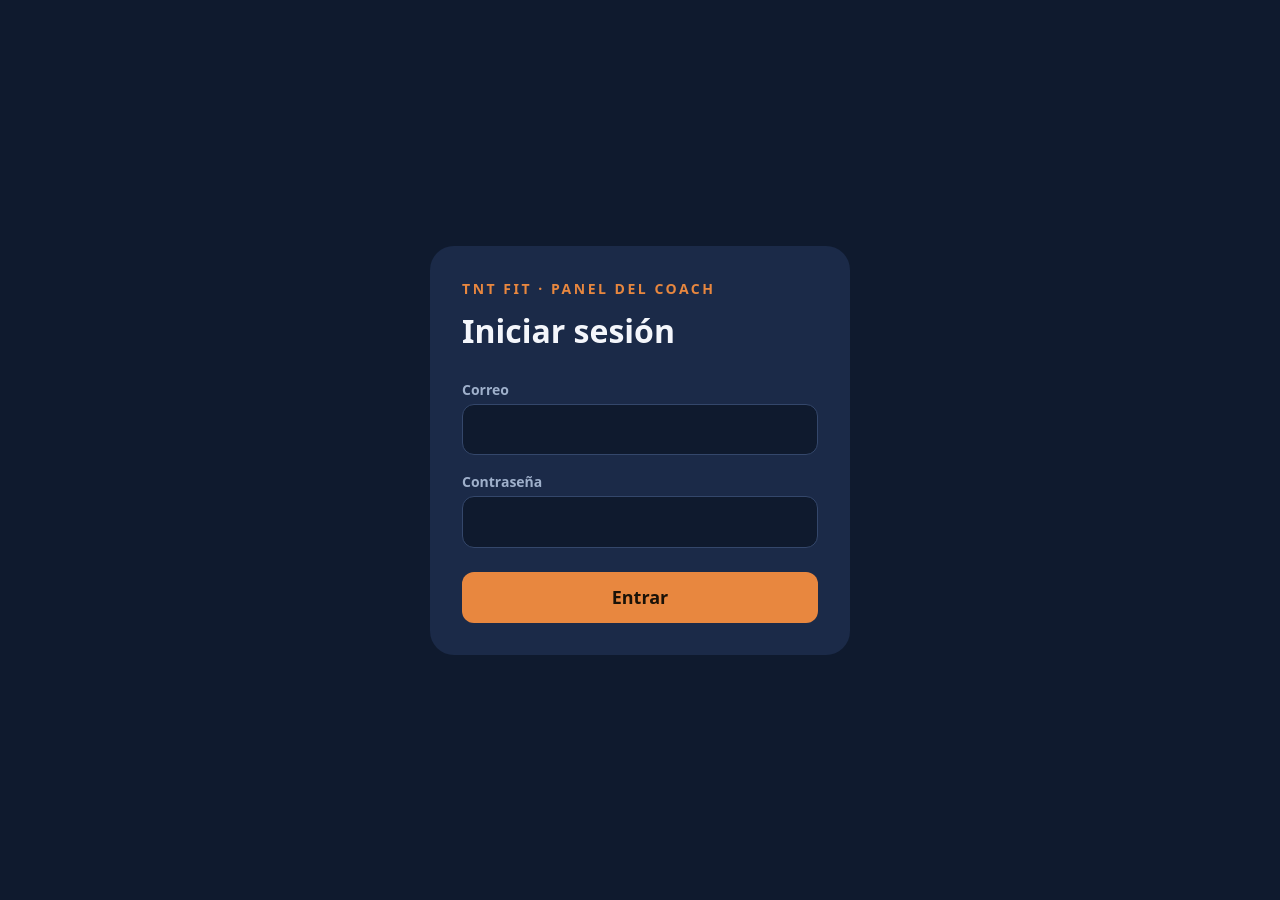
Scenario: roles › el coach solo ve los socios que el backend le devuelve (los suyos)
This screenshot has width=1280, height=900.
Type "coach@tnt.demo" into the field labelled "Correo" at (640, 429), box [462,404,818,455]
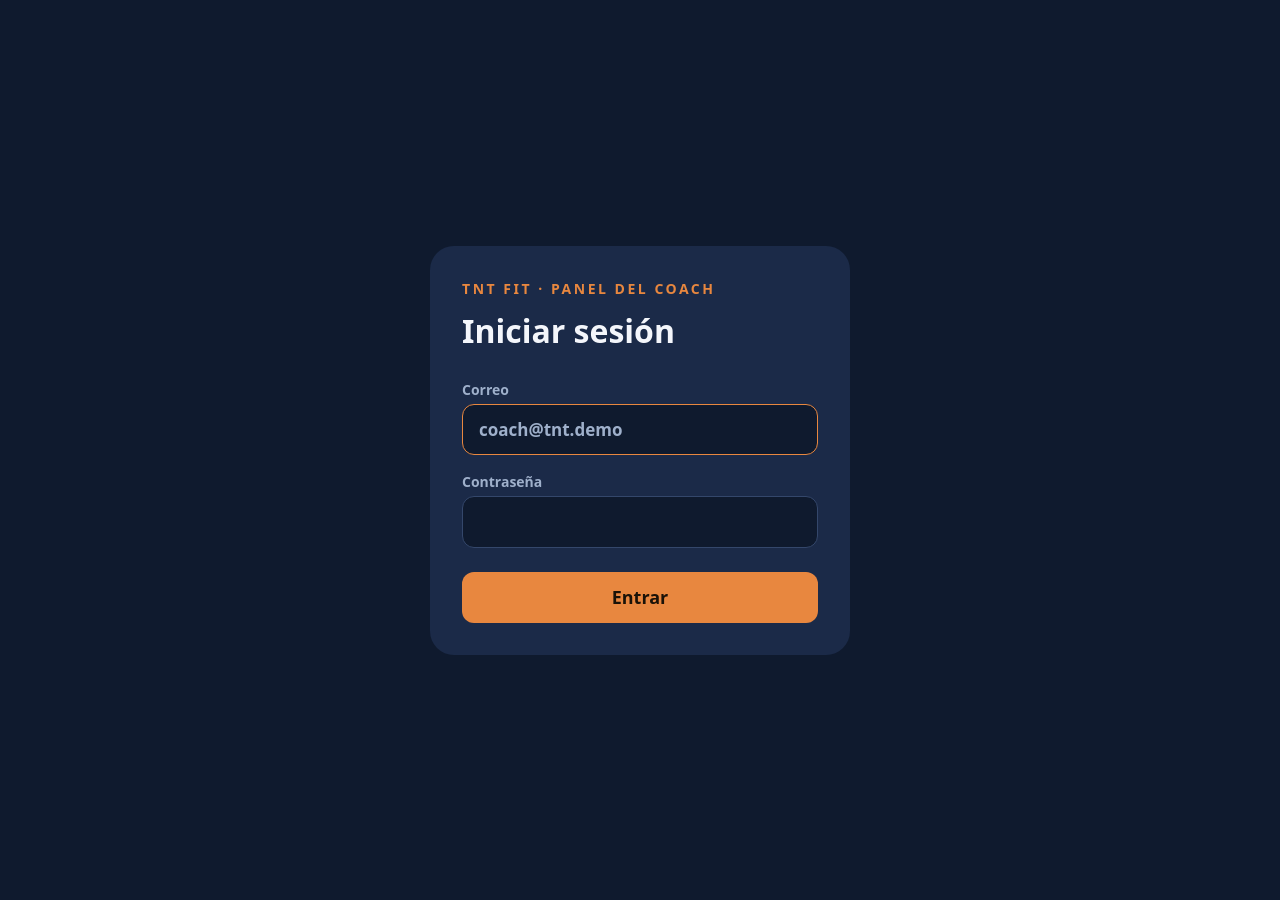
Type "bien" into the password field labelled "Contraseña" at (640, 522), box [462,496,818,548]
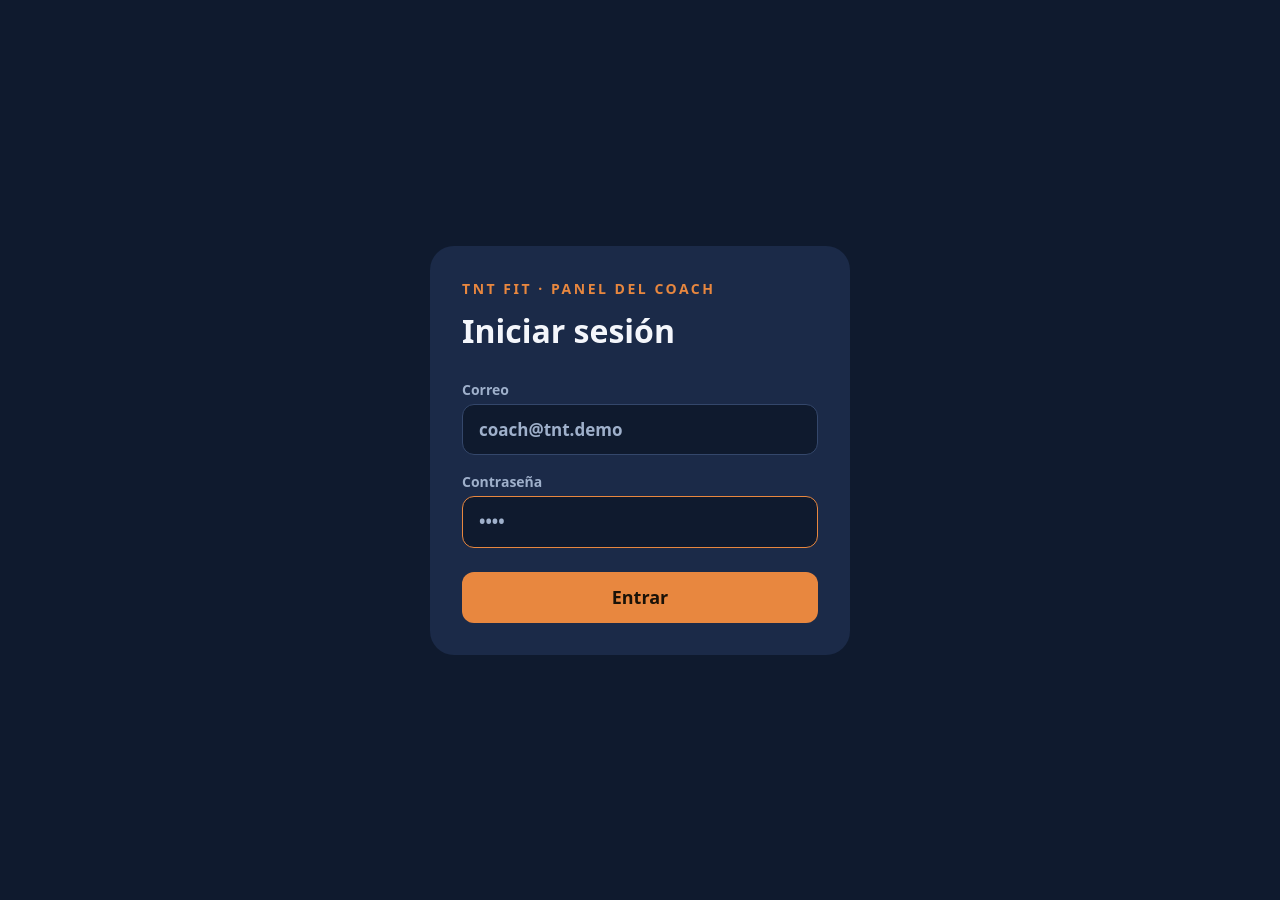
Click the button "Entrar" at (640, 597), box [462,572,818,622]
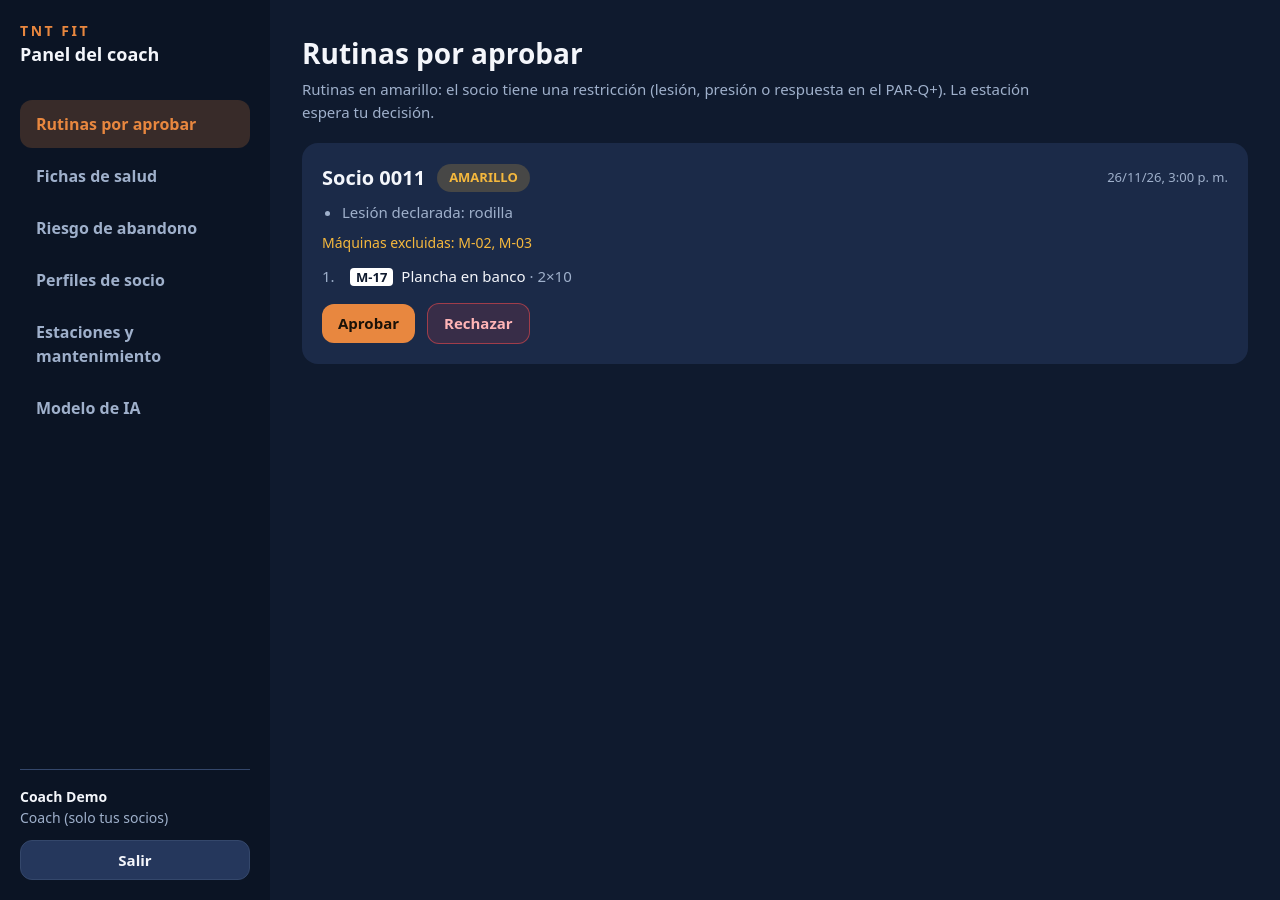
Click the button "Riesgo de abandono" at (135, 228), box [20,204,250,252]
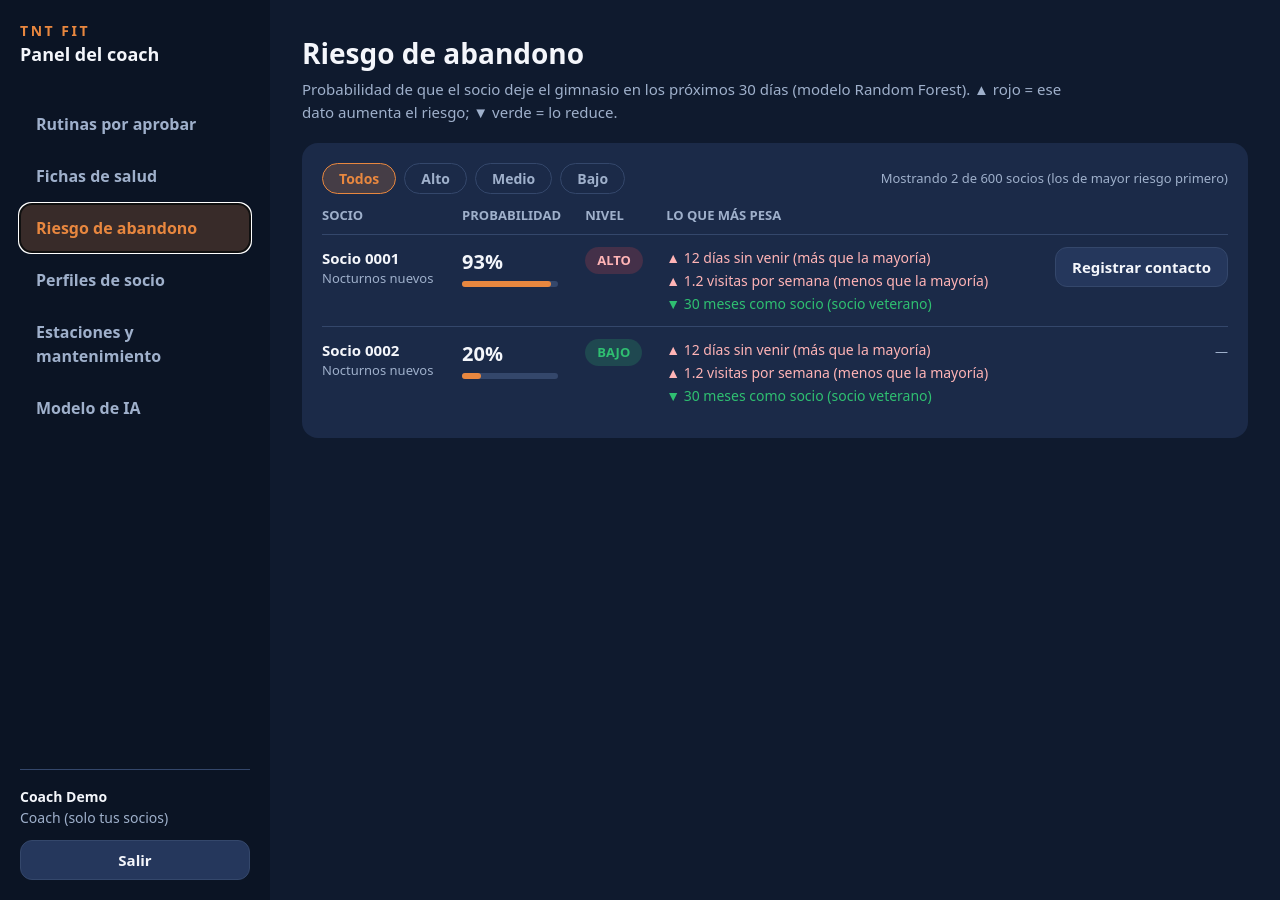
Result: the text "Socio 0001" is shown at [322,248,399,268]
Result: the text "Socio 0002" is shown at [322,340,399,360]
Result: the text "Mostrando 2 de 600 socios (los de mayor riesgo primero)" is shown at [881,169,1228,188]
